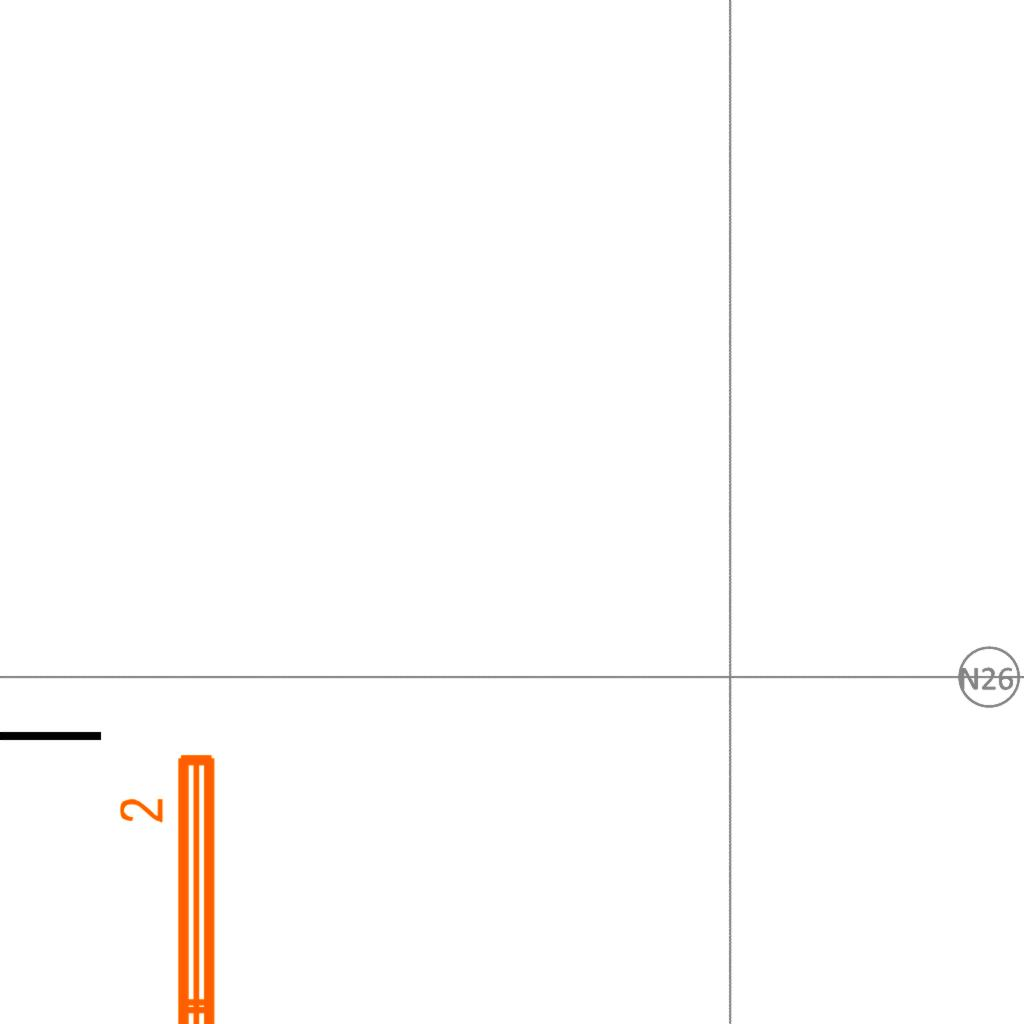Ambulanz_Pendelleuchte_LED: (115, 746, 227, 1024)
